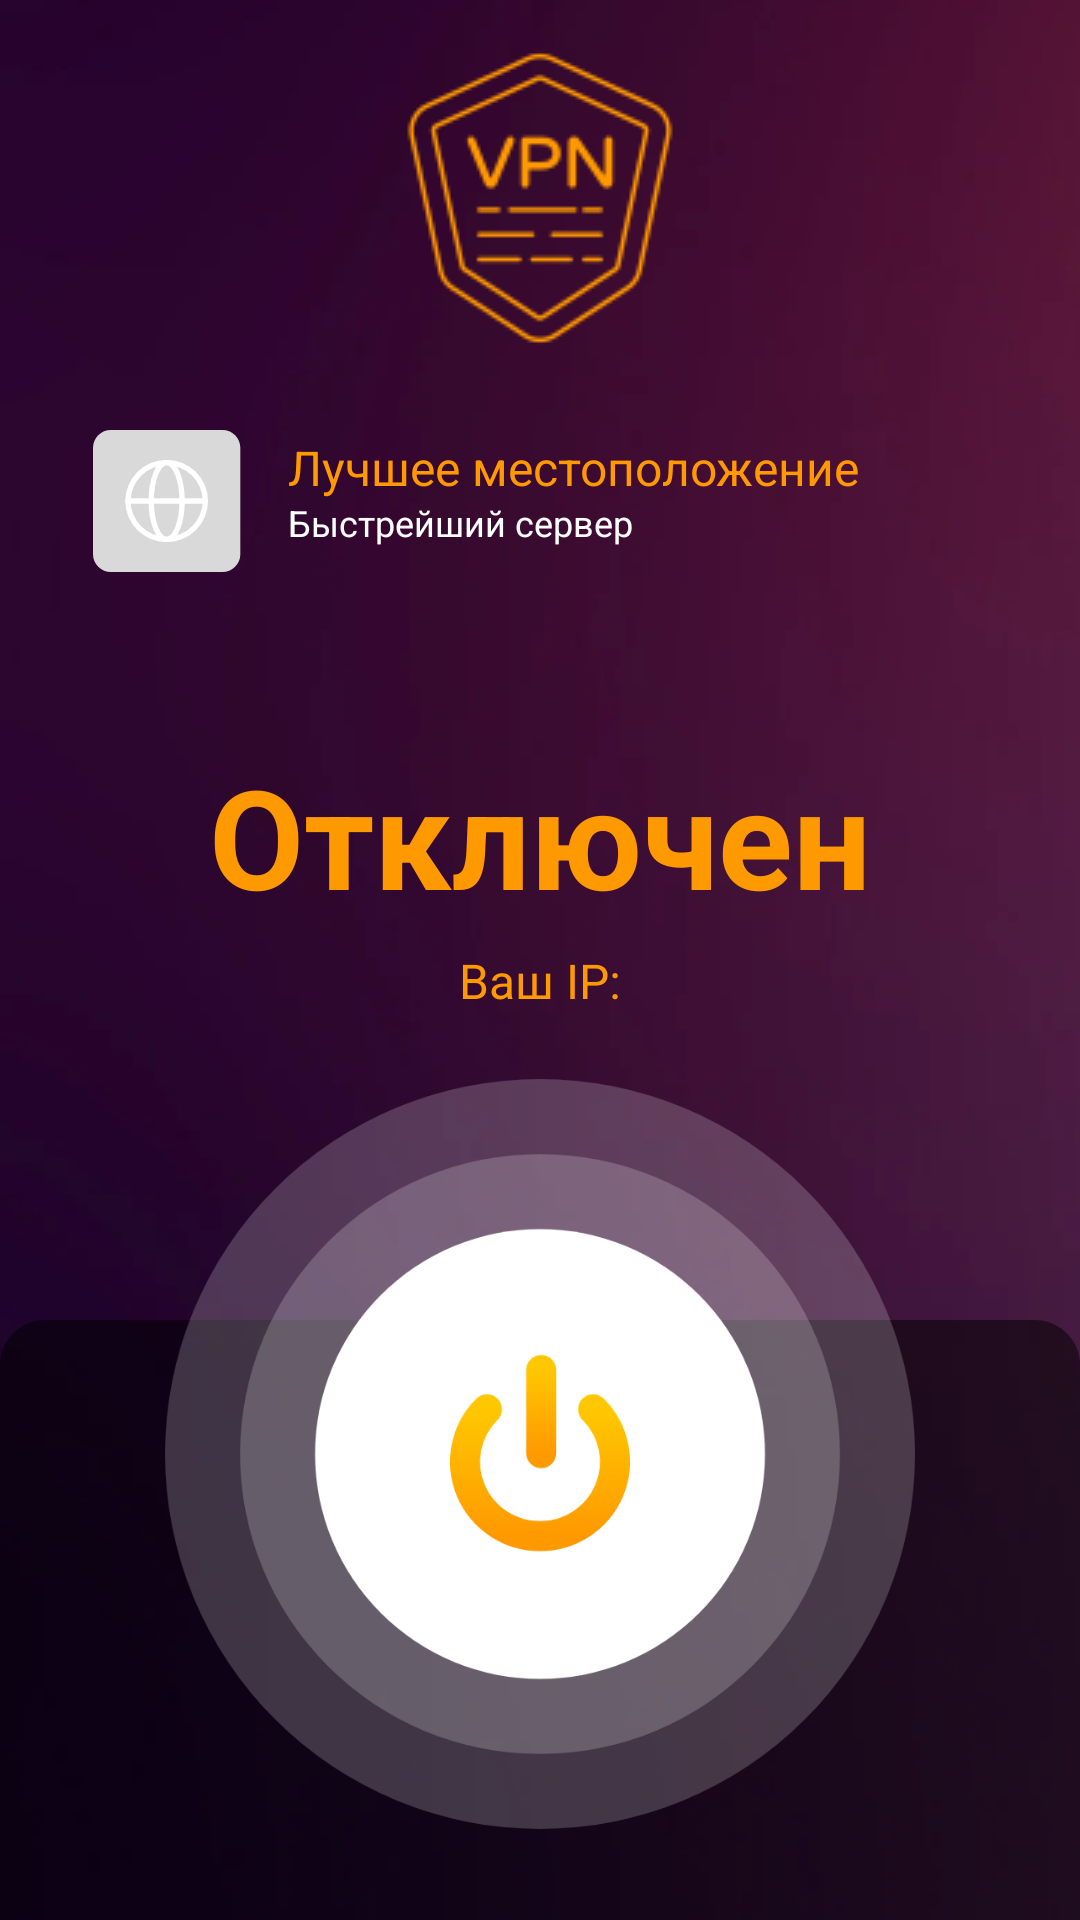

Screen size 1080px×1920px. Icon name, then its box in pixels as (left=x1, top=y1, right=x2, bottom=y2):
flag blank: (left=93, top=430, right=241, bottom=572)
